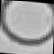no answer: (0, 0, 54, 48)
